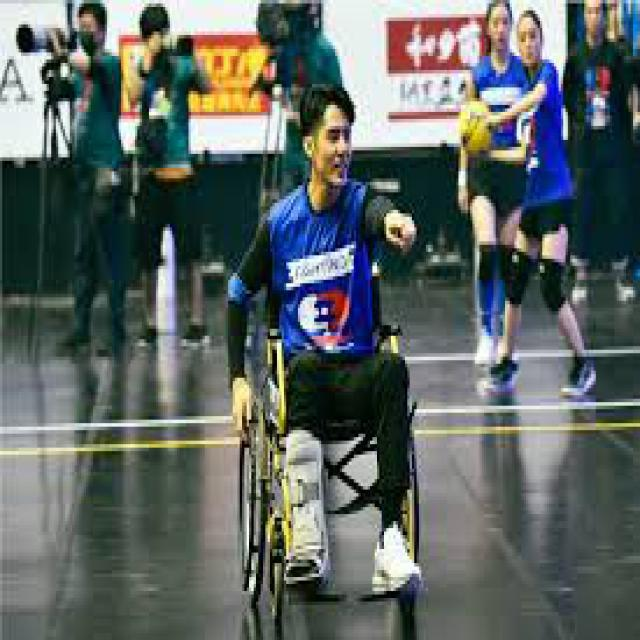wheelchairs: (216, 255, 439, 619)
